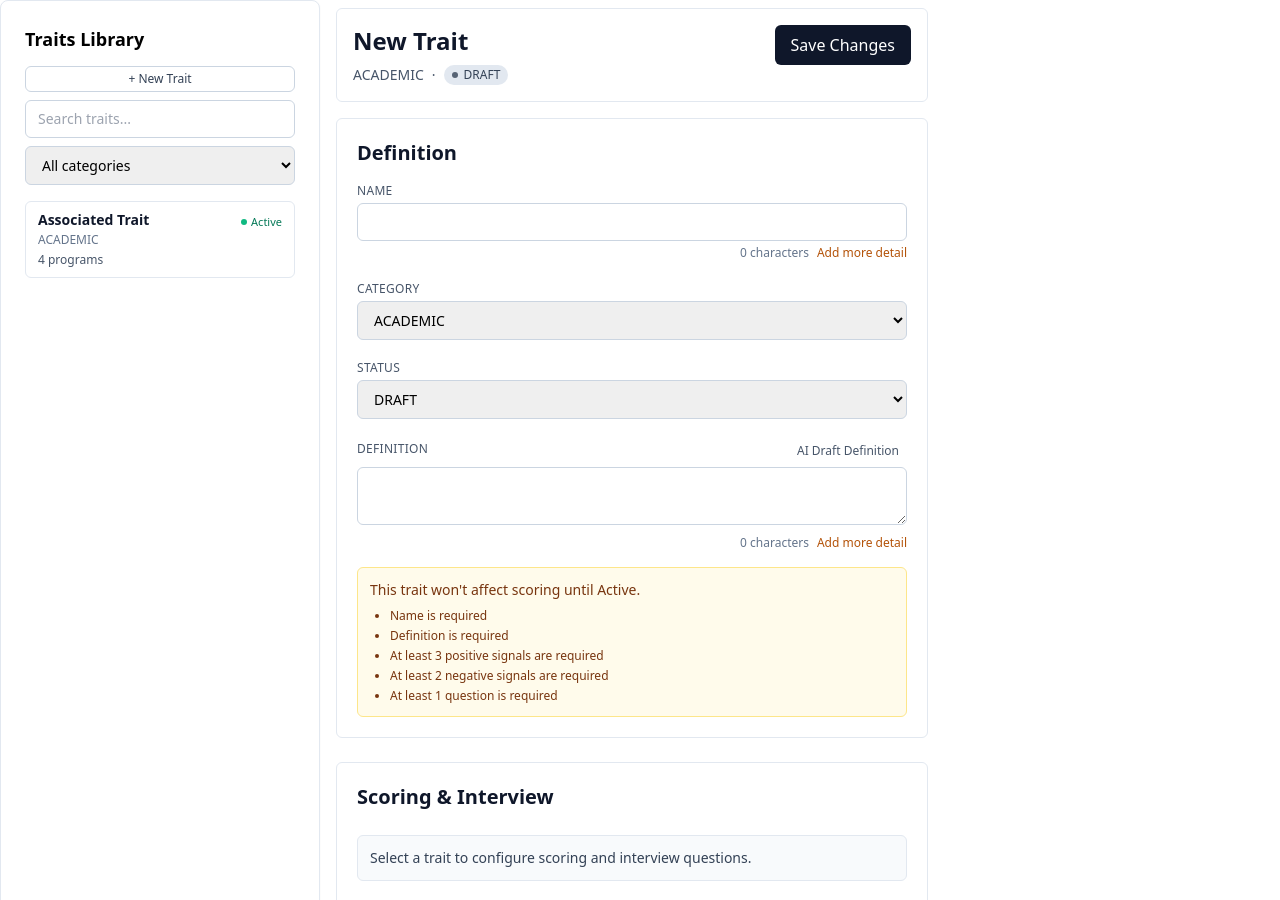
Test: TraitsPage lifecycle UX › shows program count link and opens associated programs drawer
The image size is (1280, 900).
Check: the text "Associated Trait" is shown, box x1=38 y1=210 x2=149 y2=229
What coordinates should you click on to do the following:
click the button "4 programs"
I would click on:
 (71, 260)
Its box is x1=38 y1=252 x2=103 y2=268.
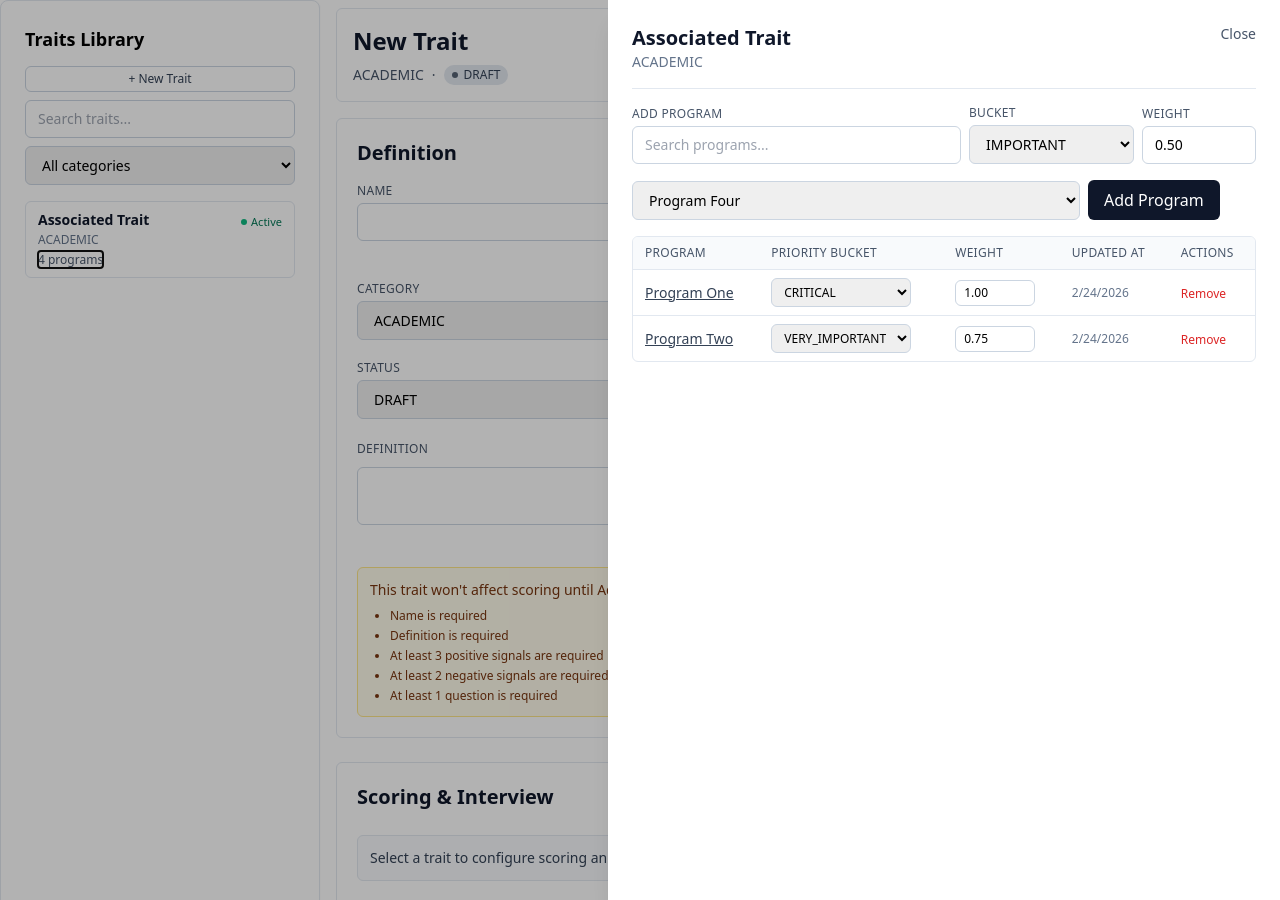
Check: the heading "Associated Trait" is shown, box x1=632 y1=24 x2=791 y2=52
Check: the button "Program One" is shown, box x1=645 y1=282 x2=734 y2=302
Check: the button "Program Two" is shown, box x1=645 y1=328 x2=733 y2=348
